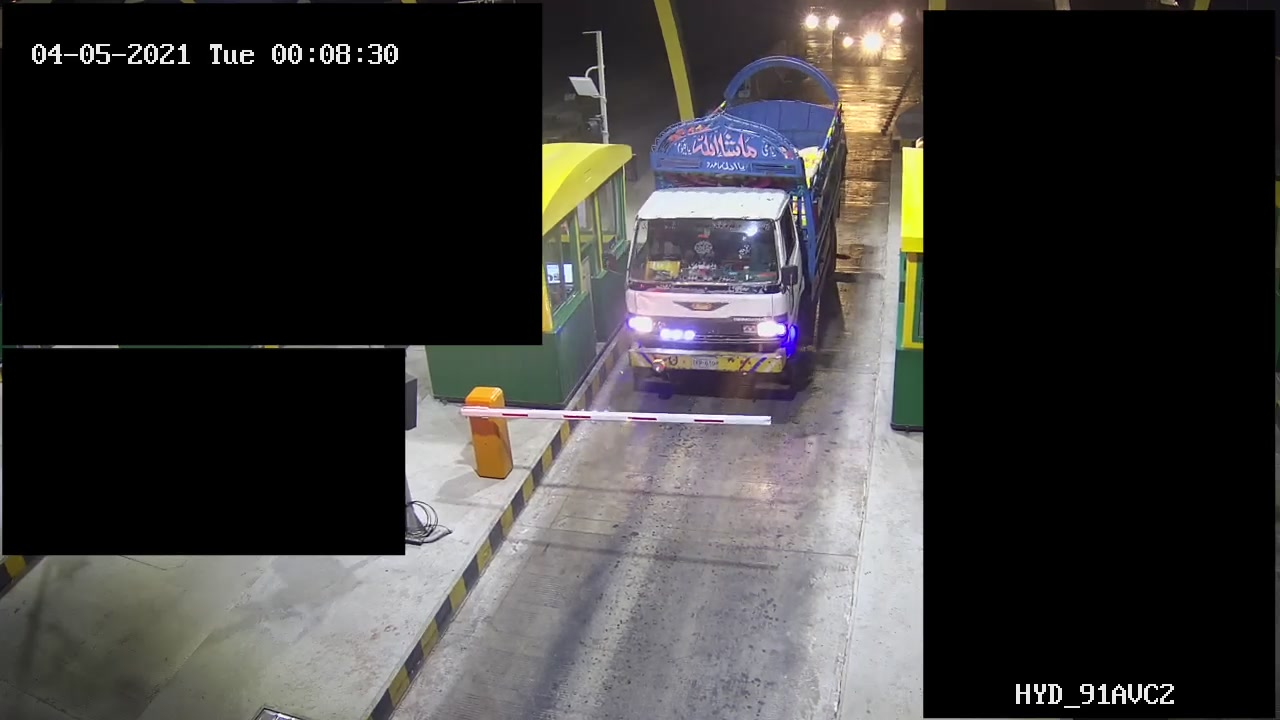F5: (623, 52, 848, 387)
